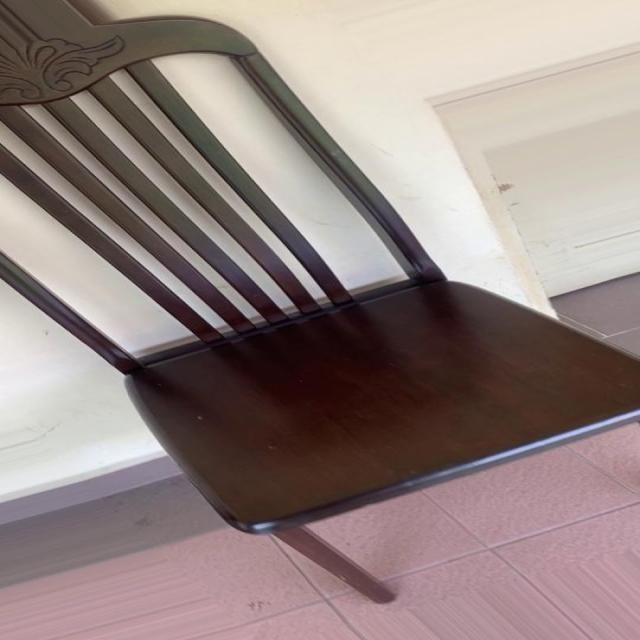Chair: (7, 4, 638, 608)
